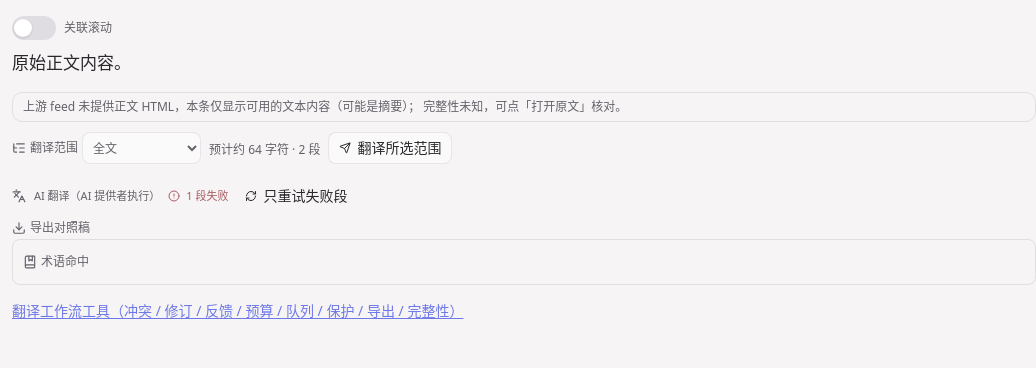
Scenario: ReaderTranslation 三模式 › 失败块：状态栏展示 + 只重试失败段（body 只含失败块）
Check: the text "1 段失败 只重试失败段" is shown, box [168,180,358,212]
Click the button "只重试失败段" at (296, 196), box [234,180,358,212]
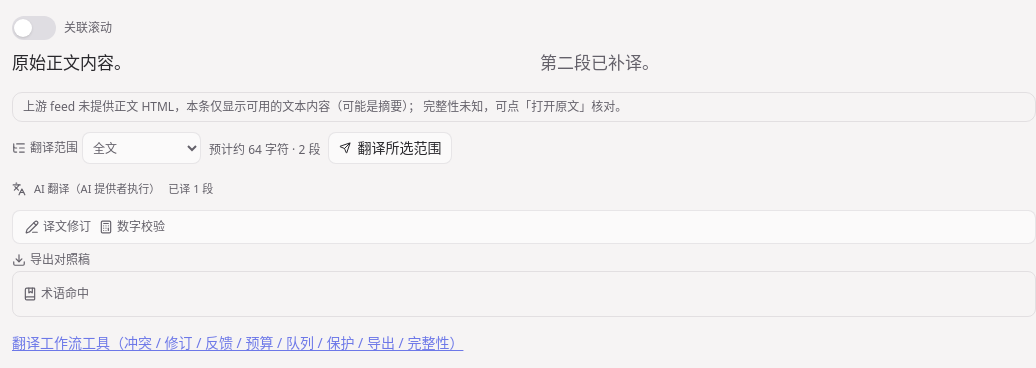
Check: the text "第二段已补译。" is shown, box [540,51,659,74]
